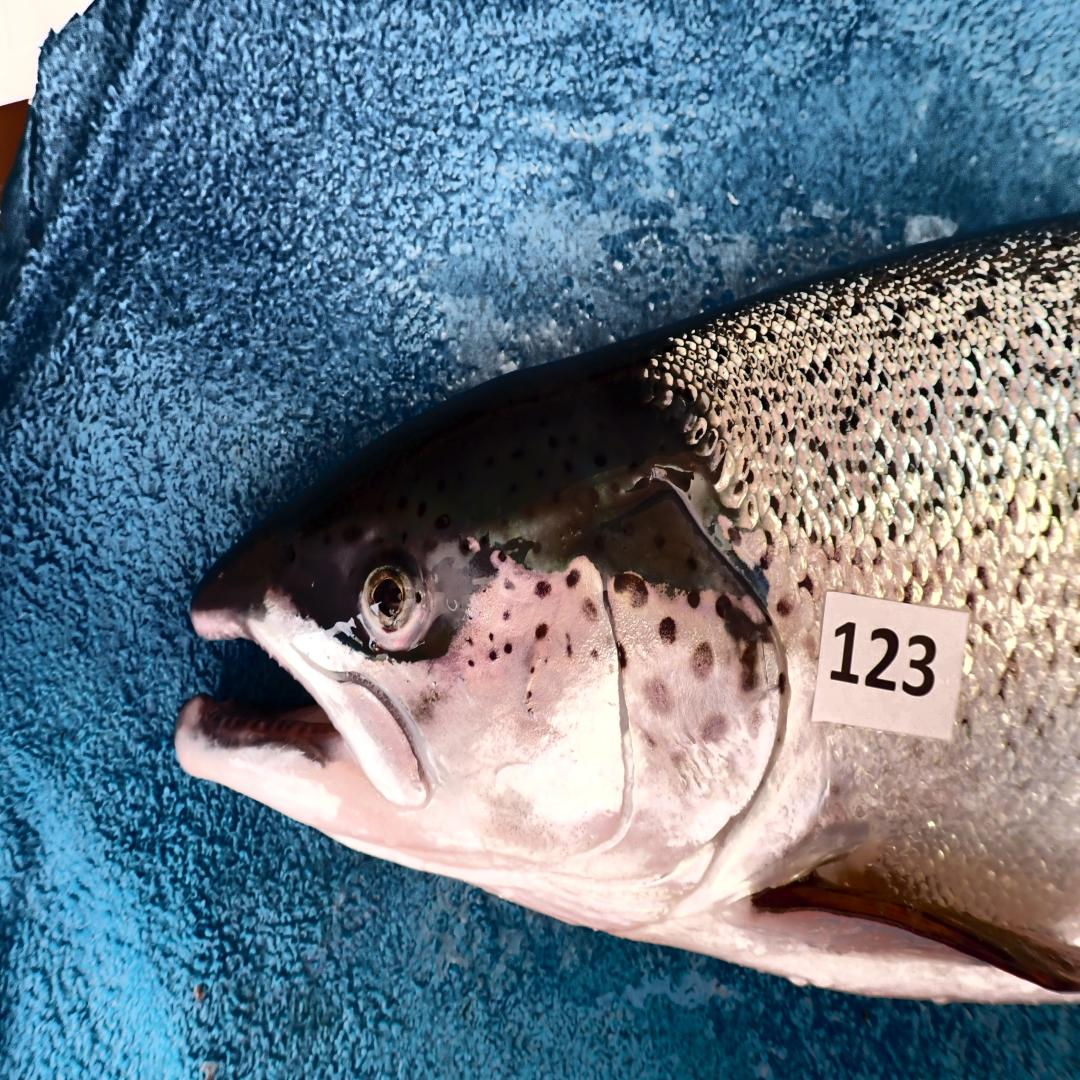spot: (716, 596, 773, 692), (641, 677, 673, 717), (614, 574, 648, 608), (700, 714, 728, 742), (694, 642, 714, 680), (658, 616, 677, 644), (748, 708, 763, 740), (582, 599, 597, 619), (565, 568, 580, 588), (641, 729, 656, 748), (536, 579, 551, 596), (617, 641, 626, 669), (671, 752, 685, 768), (688, 591, 700, 608), (565, 633, 572, 658), (536, 624, 548, 638), (504, 579, 516, 592), (779, 675, 786, 696), (489, 650, 498, 661), (467, 636, 475, 647), (503, 610, 510, 621), (592, 649, 599, 660), (504, 644, 513, 652), (467, 658, 475, 667), (542, 655, 548, 664), (489, 633, 494, 642), (530, 666, 535, 675), (526, 691, 532, 698), (527, 706, 532, 714)
